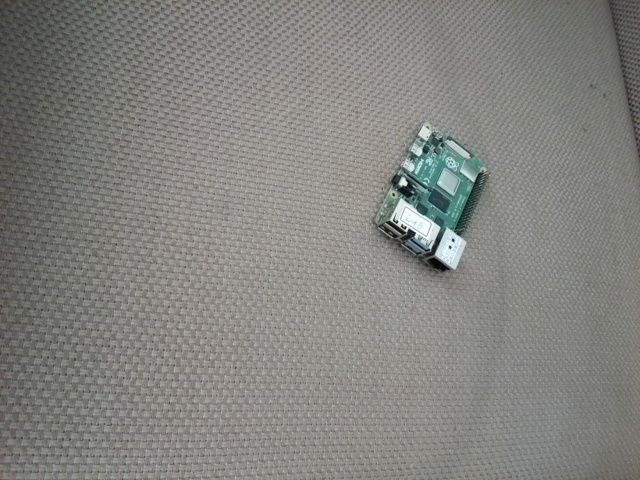Pi4: (371, 115, 491, 280)
